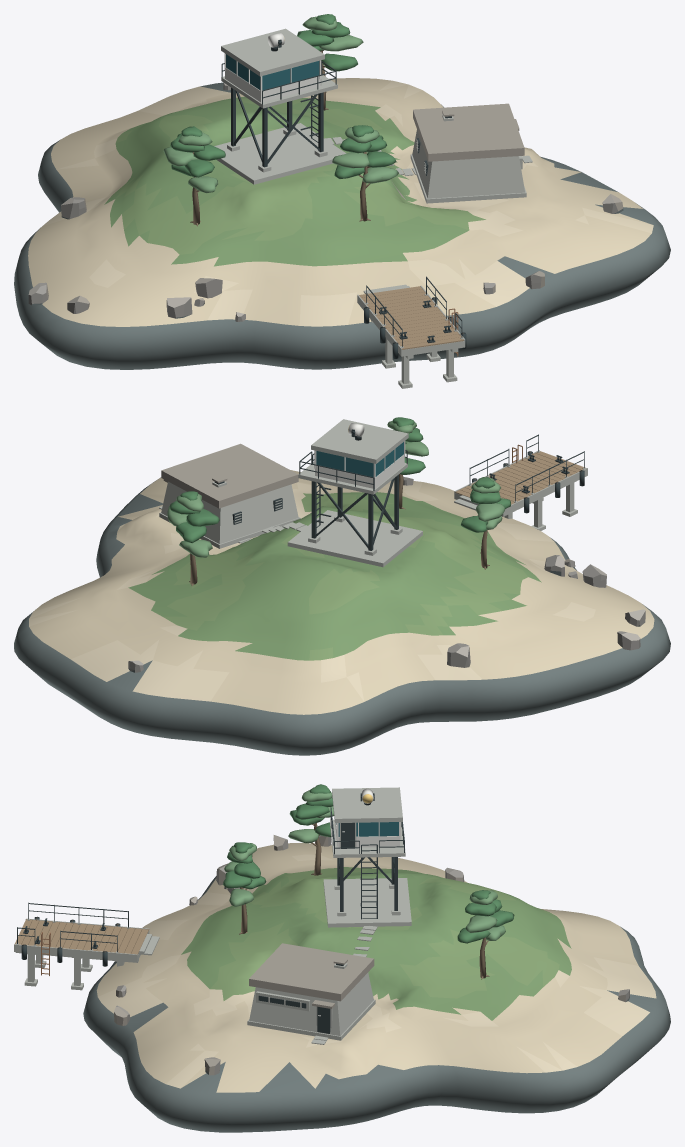
The model's file is ENV_CoastalOutpost_LOD1.fbx.
3 views of the same model, one above another, from view 1: azimuth 30°, elevation 25°; view 2: azimuth 150°, elevation 25°; view 3: azimuth 270°, elevation 25° (orthographic). The views are drawn at different scales.
Parts seen in each view (by area): view 1: TerrainShell, ENV_WatchPost_0_Visual, ENV_CoastalBunker_1_Visual, ENV_Jetty_5_Visual, Decor_Visual.001, ENV_CoastalPine_2_Visual.001, ENV_CoastalPine_4_Visual, ENV_CoastalPine_3_Visual.001; view 2: TerrainShell, ENV_WatchPost_0_Visual, ENV_CoastalBunker_1_Visual, ENV_Jetty_5_Visual, Decor_Visual.001, ENV_CoastalPine_3_Visual.001, ENV_CoastalPine_4_Visual, ENV_CoastalPine_2_Visual.001; view 3: TerrainShell, ENV_WatchPost_0_Visual, ENV_CoastalBunker_1_Visual, ENV_Jetty_5_Visual, ENV_CoastalPine_3_Visual.001, Decor_Visual.001, ENV_CoastalPine_2_Visual.001, ENV_CoastalPine_4_Visual.
Boxes of the visible parts, x1,y1,x2,y2 form: TerrainShell: (14,78,670,369); ENV_WatchPost_0_Visual: (214,28,346,184); ENV_CoastalBunker_1_Visual: (410,103,526,203); ENV_Jetty_5_Visual: (357,276,466,388); Decor_Visual.001: (28,83,623,321); ENV_CoastalPine_2_Visual.001: (332,125,398,221); ENV_CoastalPine_4_Visual: (163,126,225,226); ENV_CoastalPine_3_Visual.001: (297,14,363,110); TerrainShell: (14,470,670,755); ENV_WatchPost_0_Visual: (287,419,422,567); ENV_CoastalBunker_1_Visual: (159,443,300,548); ENV_Jetty_5_Visual: (454,434,587,530); Decor_Visual.001: (128,477,645,672); ENV_CoastalPine_3_Visual.001: (167,491,219,585); ENV_CoastalPine_4_Visual: (461,477,510,569); ENV_CoastalPine_2_Visual.001: (387,417,428,509); TerrainShell: (83,843,670,1132); ENV_WatchPost_0_Visual: (323,787,411,927); ENV_CoastalBunker_1_Visual: (247,943,375,1040); ENV_Jetty_5_Visual: (14,902,159,990); ENV_CoastalPine_3_Visual.001: (457,890,514,979); Decor_Visual.001: (114,835,629,1075); ENV_CoastalPine_2_Visual.001: (223,842,266,934); ENV_CoastalPine_4_Visual: (288,784,334,875).
Bounding box in the file's own units: 2964 × 1127 × 3136.
